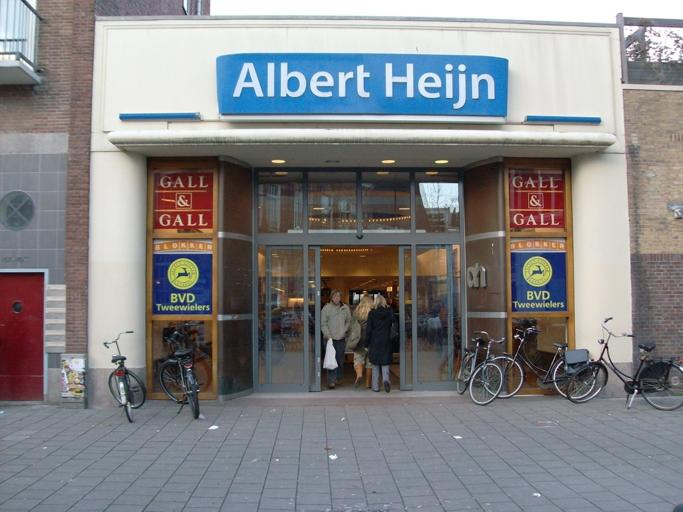non-vehicle: (566, 317, 682, 410), (483, 325, 596, 399), (158, 322, 201, 418), (104, 330, 145, 422), (456, 330, 506, 404), (438, 331, 461, 379), (258, 327, 284, 364)
